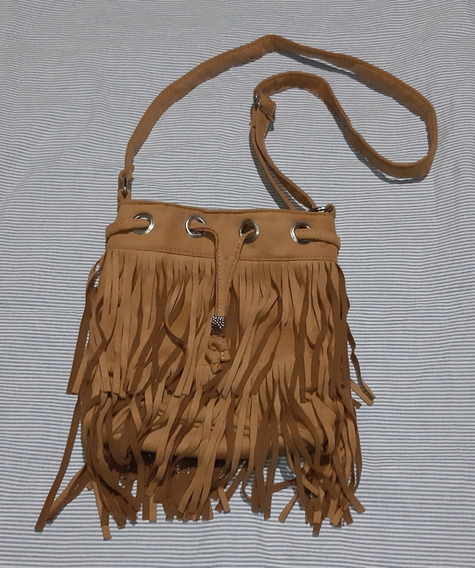cartera: (75, 33, 375, 463)
